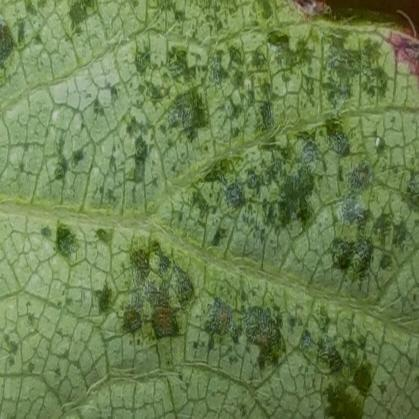Angular Leafspot: (0, 0, 418, 418)
